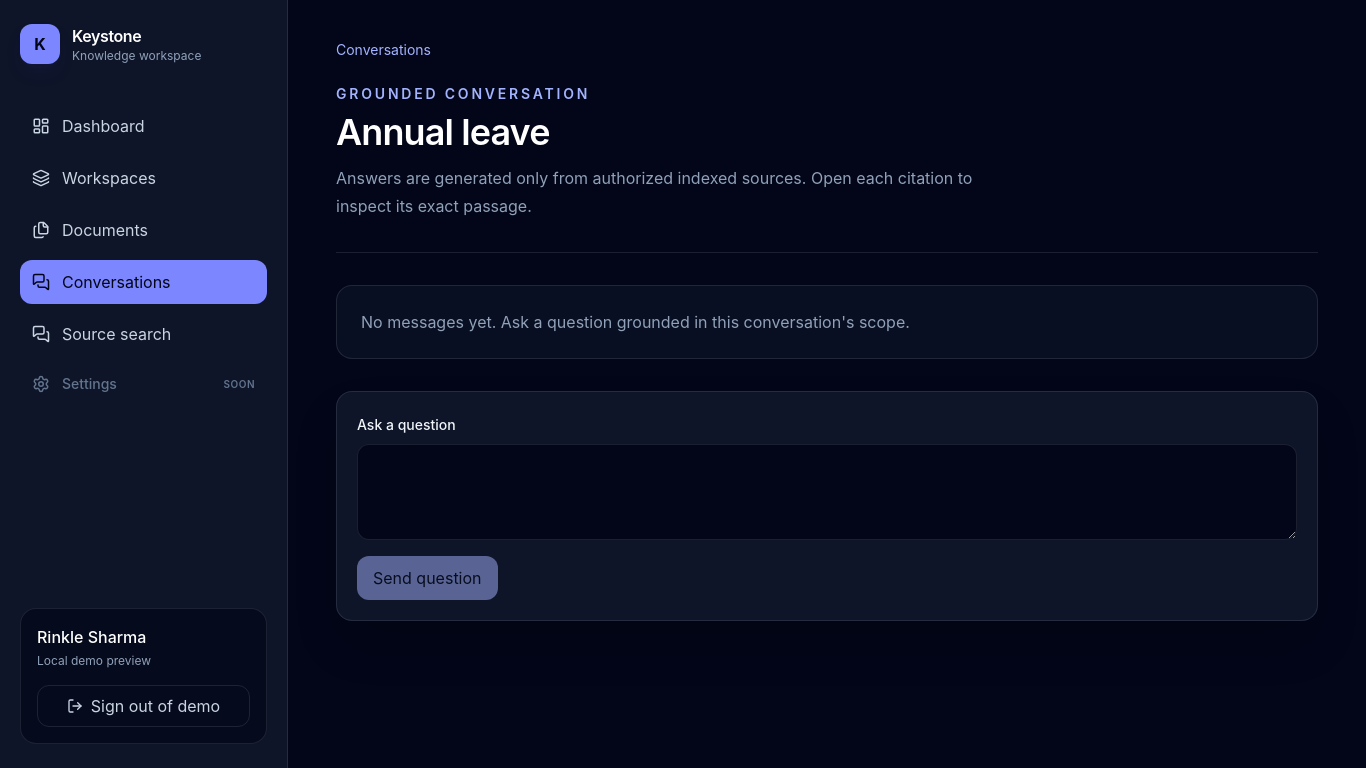
conversation routes › sends a question and renders an exact accessible source citation
Type "How much leave?" into the text box labelled "Ask a question".
click(827, 492); type("How much leave?")  # box [357,444,1297,540]
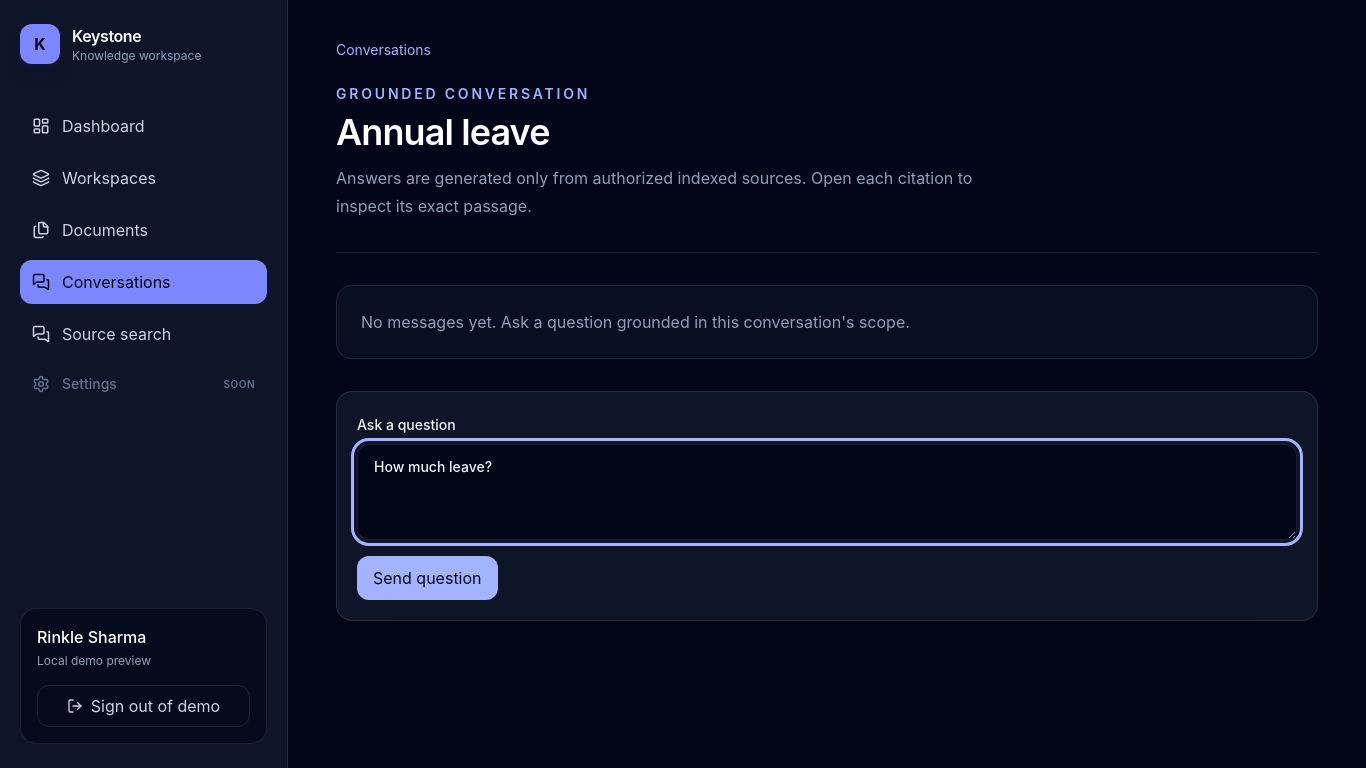
Click the button "Send question".
click(427, 578)  # box [357,556,498,600]
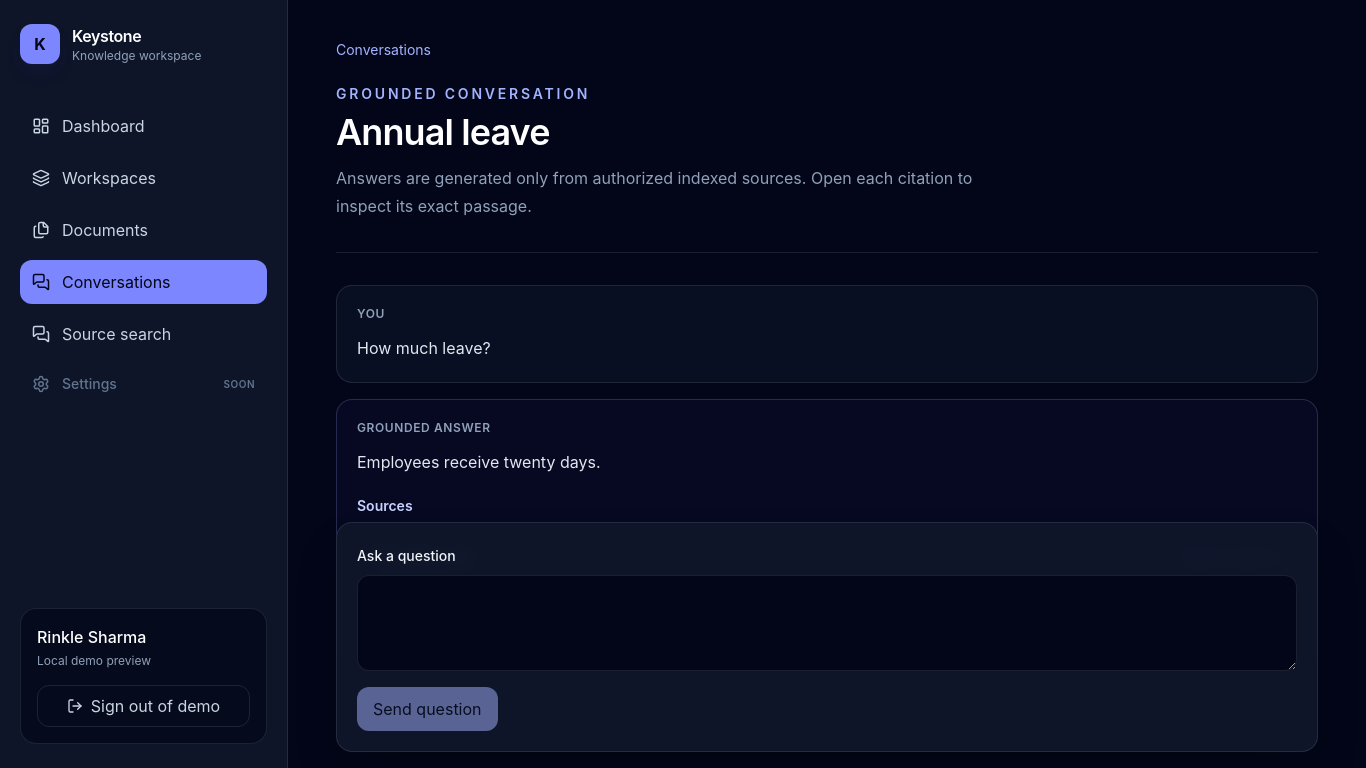
Expected: the text "Employees receive twenty days." is shown, [357,452,600,472]
Expected: the heading "Sources" is shown, [357,497,413,514]
Expected: the text "Annual leave" is shown, [374,577,447,592]
